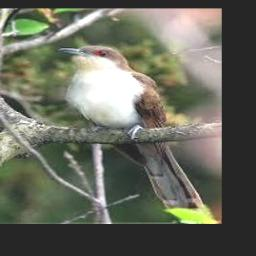Cuckoo: (56, 46, 203, 210)
